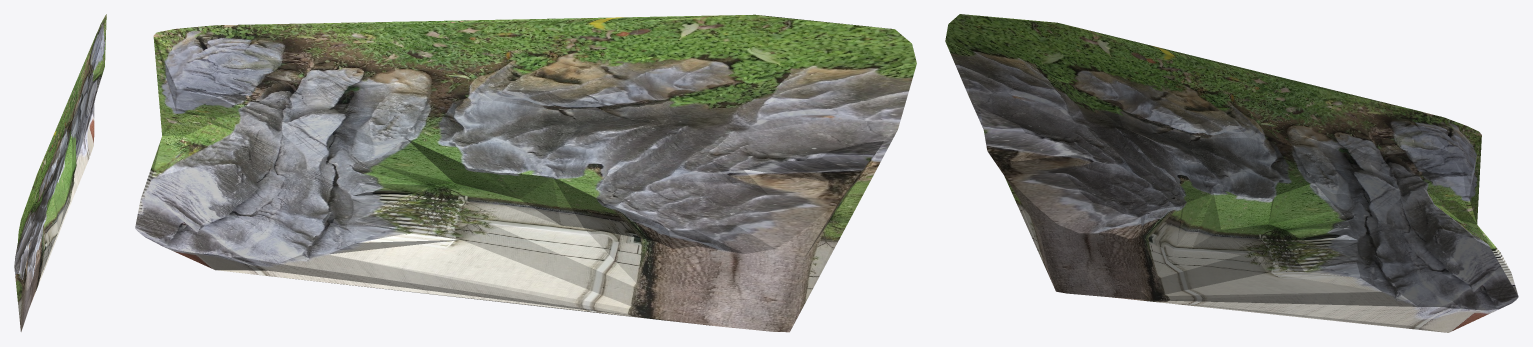
The model's file is our_model1.obj.
3 renders of one model, left to right at view 1: azimuth 30°, elevation 25°; view 2: azimuth 150°, elevation 25°; view 3: azimuth 270°, elevation 25°, orthographic. The views are drawn at different scales.
Size of the model in its own units: 0.2657 by 0.2006 by 0.3061.
